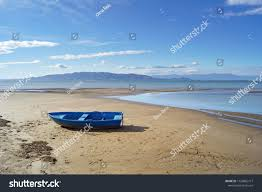boat_cabin: (45, 101, 126, 133)
